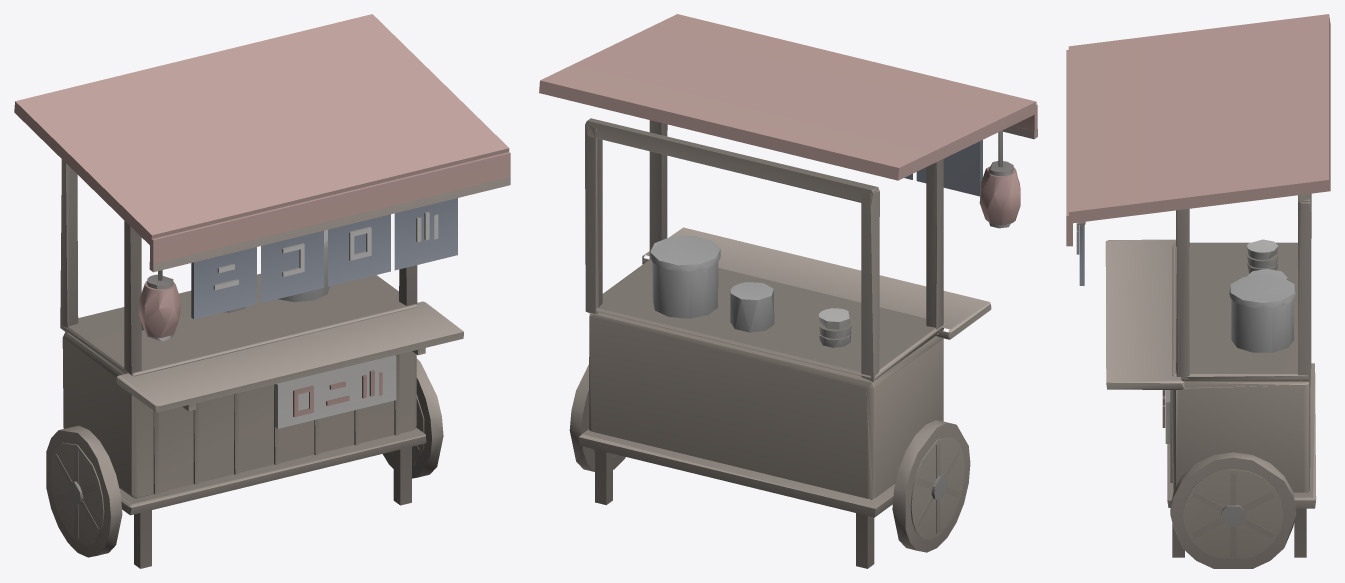
The model's file is ramen.lod1.glb.
The picture shows the model from 3 angles, left to right: view 1: azimuth 30°, elevation 25°; view 2: azimuth 150°, elevation 25°; view 3: azimuth 270°, elevation 25°; orthographic projection. The views are drawn at different scales.
Size of the model in its own units: 1.87 by 2.09 by 1.26.
